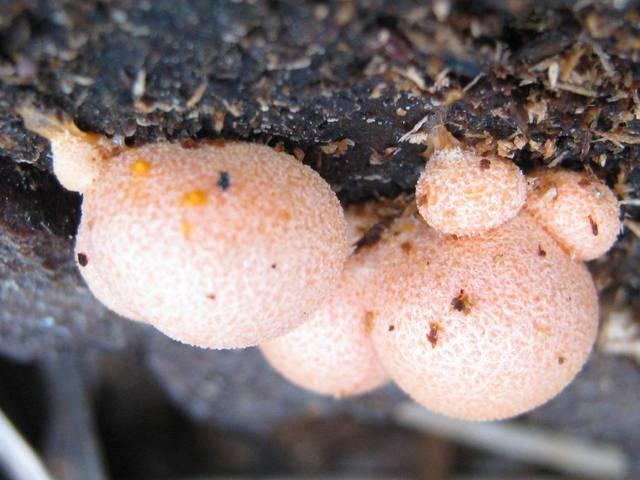Non-edible Mushroom: (63, 126, 620, 421), (72, 135, 351, 350), (355, 202, 601, 421), (257, 269, 391, 398), (413, 143, 528, 237), (524, 164, 622, 262)
